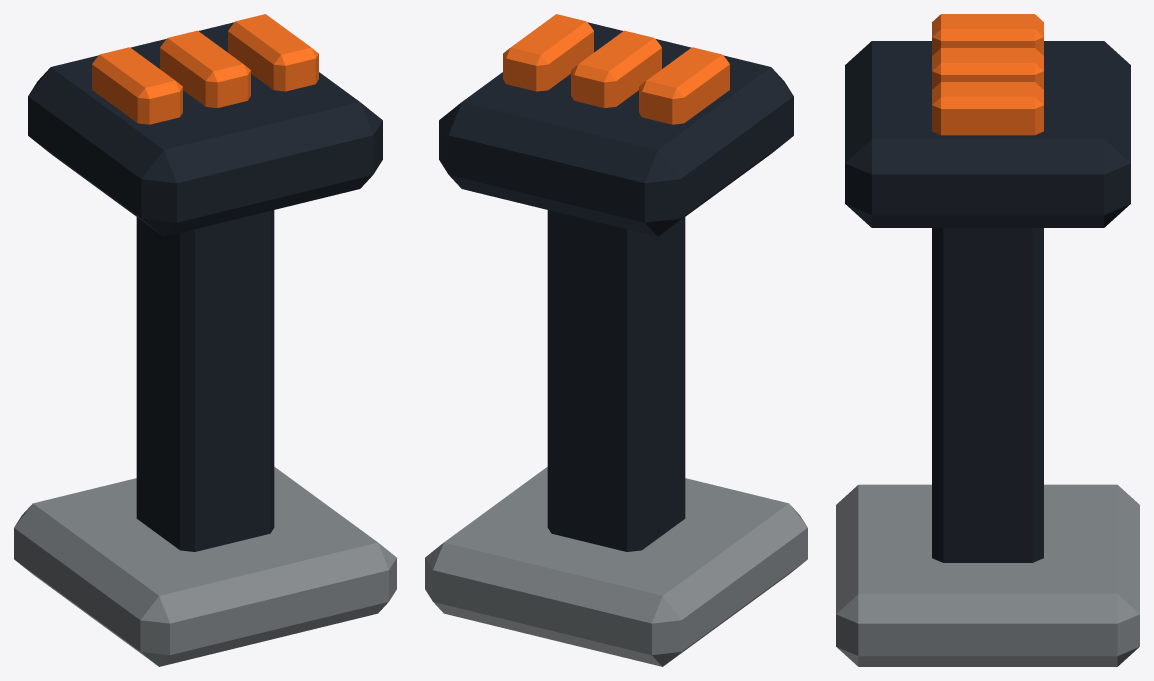
The model's file is Brazier.obj.
The picture shows the model from 3 angles, left to right: view 1: azimuth 30°, elevation 25°; view 2: azimuth 150°, elevation 25°; view 3: azimuth 270°, elevation 25°; orthographic projection. The views are drawn at different scales.
Parts seen in each view (by area): view 1: Iron, StoneLight, Ember; view 2: Iron, StoneLight, Ember; view 3: Iron, StoneLight, Ember.
Boxes of the visible parts, left/top/right/bottom form: Iron: left=28, top=22, right=382, bottom=551; StoneLight: left=14, top=467, right=396, bottom=666; Ember: left=92, top=14, right=318, bottom=124; Iron: left=439, top=22, right=793, bottom=551; StoneLight: left=425, top=467, right=807, bottom=666; Ember: left=503, top=14, right=729, bottom=124; Iron: left=845, top=41, right=1130, bottom=562; StoneLight: left=836, top=484, right=1139, bottom=666; Ember: left=932, top=14, right=1043, bottom=135.
Bounding box in the file's own units: 0.68 × 1.38 × 0.68.
